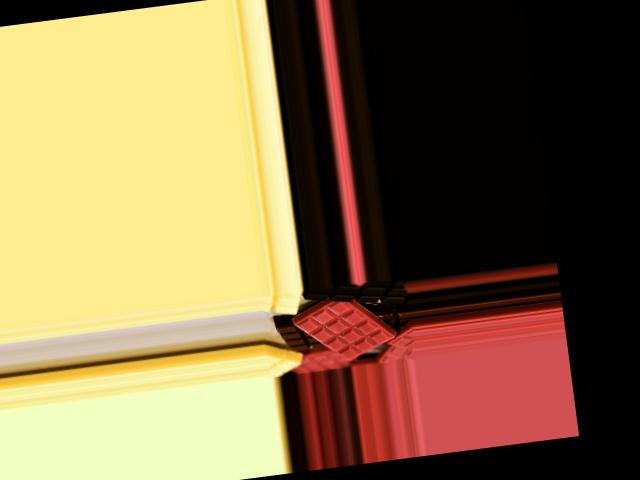chocolate: (290, 278, 399, 369)
